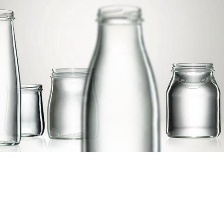bottle: (79, 0, 164, 154), (45, 60, 102, 144), (164, 59, 222, 138), (0, 5, 24, 150), (16, 80, 48, 138)
